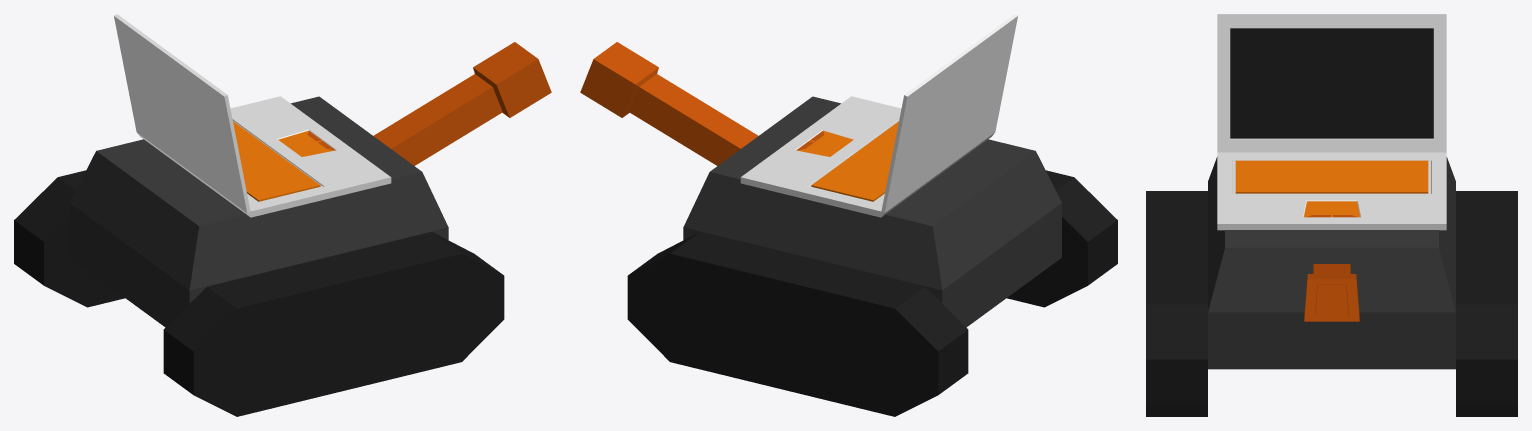
File: tanker.glb
3 renders of one model, left to right at view 1: azimuth 30°, elevation 25°; view 2: azimuth 150°, elevation 25°; view 3: azimuth 270°, elevation 25°, orthographic. The views are drawn at different scales.
Parts seen in each view (by area): view 1: tanker; view 2: tanker; view 3: tanker.
Part boxes in pixels (left/top/right/bottom): tanker: left=14, top=14, right=551, bottom=416; tanker: left=580, top=14, right=1117, bottom=416; tanker: left=1146, top=14, right=1517, bottom=416.
Bounding box in the file's own units: 3.36 × 2.15 × 2.4.
2 materials, 2 textured.
